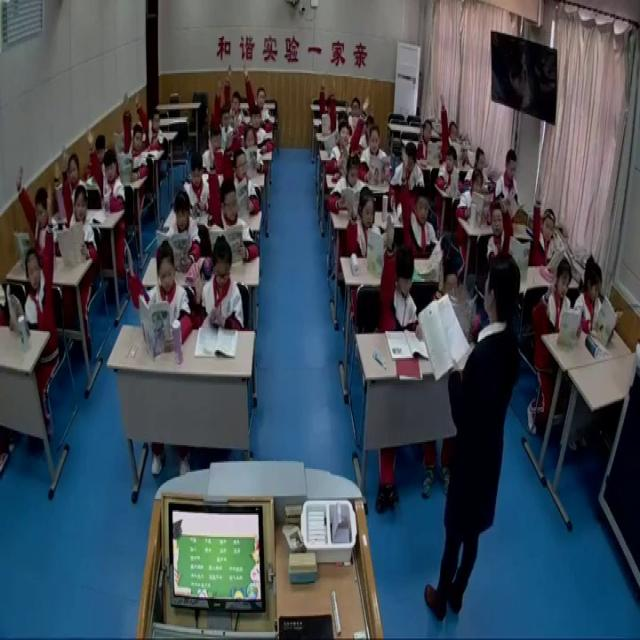distracted: (437, 149, 463, 192)
focused: (577, 260, 618, 347), (390, 141, 428, 215), (164, 193, 200, 268), (324, 155, 368, 216), (359, 120, 392, 186), (453, 170, 487, 226), (498, 153, 525, 219), (186, 156, 213, 220), (240, 122, 269, 181), (466, 146, 495, 197), (202, 119, 226, 176), (246, 111, 274, 159), (90, 129, 108, 176)
raising_hand: (121, 229, 190, 339), (205, 140, 259, 267), (22, 180, 56, 334), (398, 146, 439, 260), (187, 241, 241, 327), (326, 86, 370, 182), (380, 211, 416, 327), (15, 162, 56, 255), (60, 156, 96, 254), (534, 255, 576, 333), (86, 129, 124, 215), (224, 127, 262, 210), (484, 182, 515, 271), (120, 89, 149, 182), (347, 188, 383, 262), (532, 176, 560, 267), (132, 86, 167, 156), (245, 64, 277, 132), (54, 150, 86, 211), (438, 97, 464, 162), (221, 60, 244, 132), (211, 80, 234, 148), (438, 260, 462, 323), (413, 117, 437, 167), (328, 81, 346, 140), (349, 88, 372, 130), (319, 74, 334, 130)
